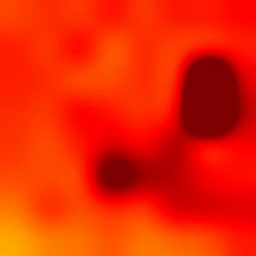person: (103, 136, 209, 211)
